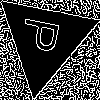P: (19, 15, 69, 56)
